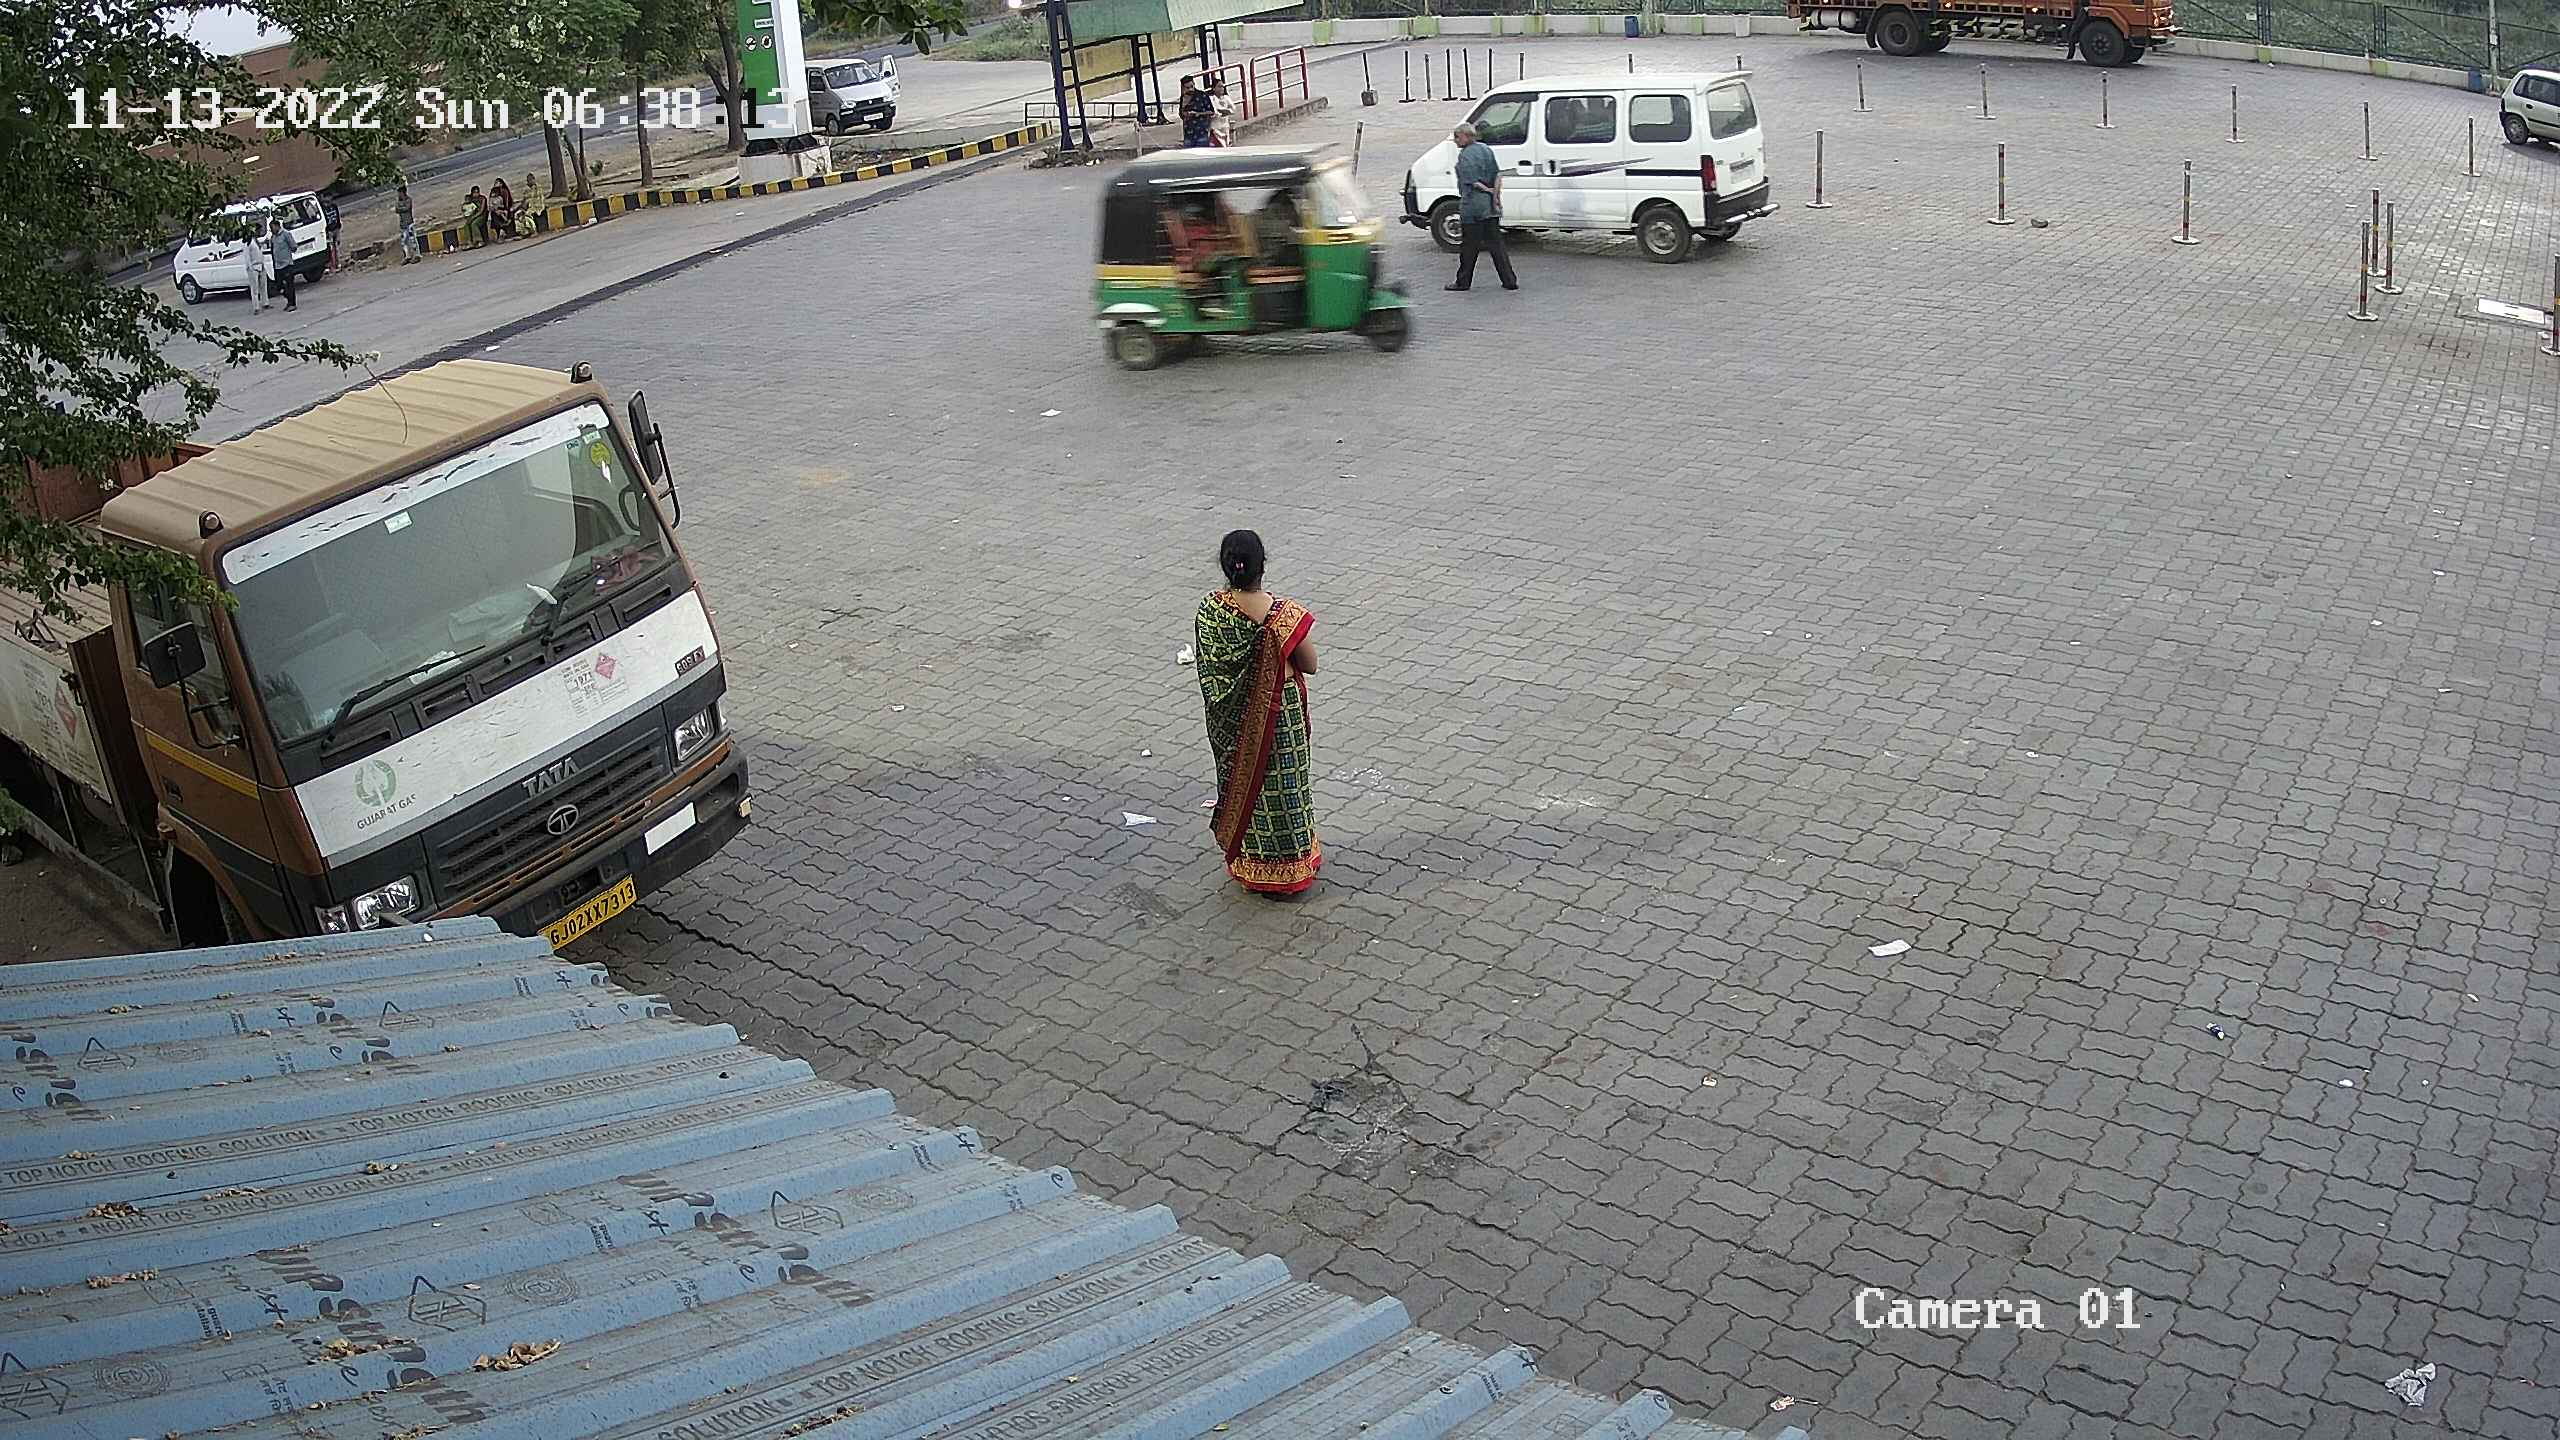Auto: (1081, 134, 1428, 364)
Car: (1387, 60, 1779, 274), (165, 179, 359, 306), (793, 40, 913, 139), (2490, 46, 2558, 153)
HMV: (2, 343, 777, 969), (1764, 0, 2200, 76)
